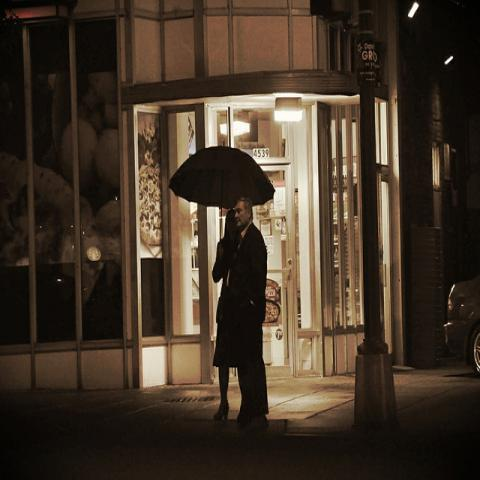car: (443, 276, 479, 382)
